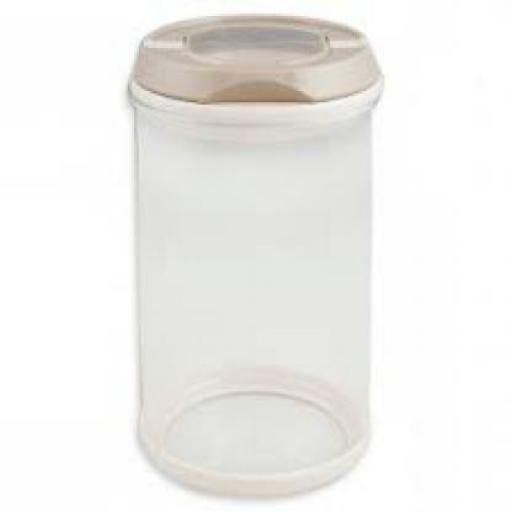glass: (134, 84, 383, 496)
plastic: (128, 14, 384, 116)
